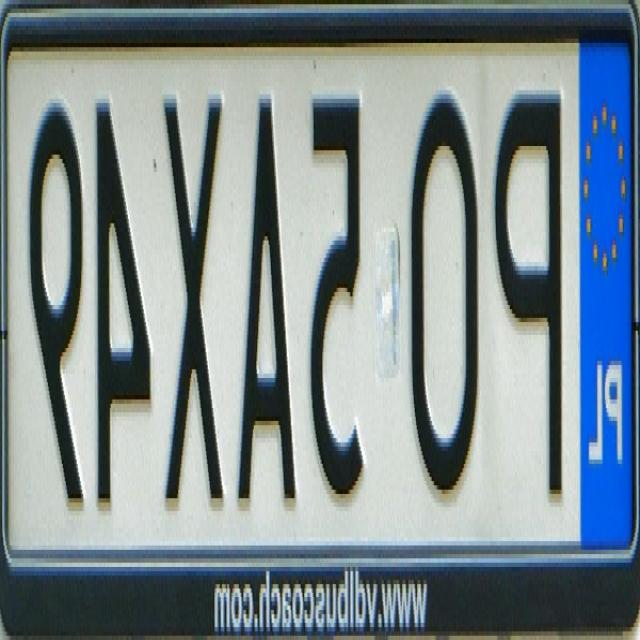pl_license_plate: (9, 34, 632, 546)
